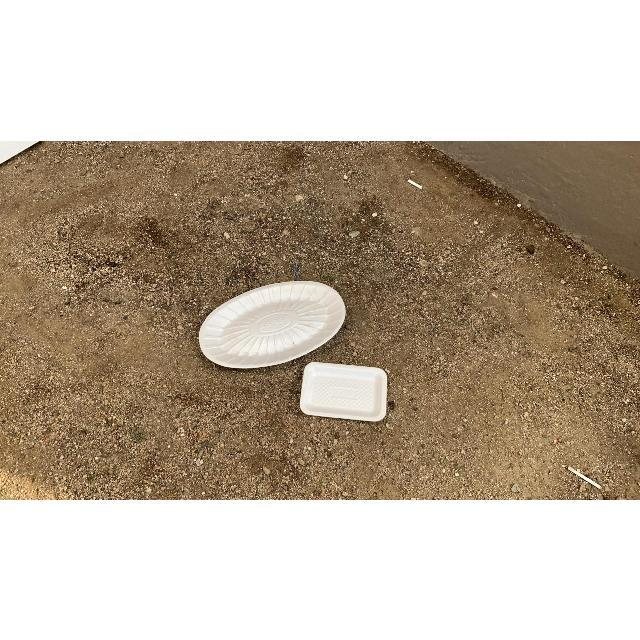Recipiente plastico: (199, 281, 345, 368), (300, 362, 388, 421)
